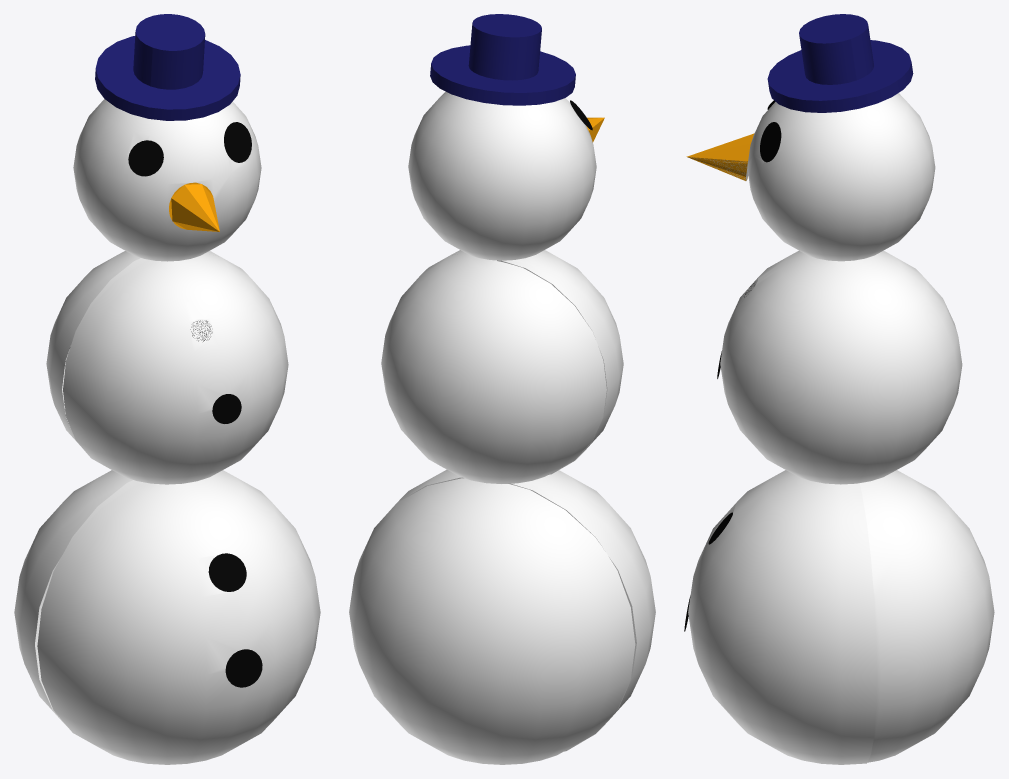
Rendered from snow_man.dae.
3 views of the same model, side by side, from view 1: azimuth 30°, elevation 25°; view 2: azimuth 150°, elevation 25°; view 3: azimuth 270°, elevation 25° (orthographic).
Parts seen in each view (by area): view 1: SketchUp (×11); view 2: SketchUp (×6); view 3: SketchUp (×7).
Boxes of the visible parts, x1,y1,x2,y2 form: SketchUp (×11): [14, 14, 320, 764]; SketchUp (×6): [349, 14, 655, 764]; SketchUp (×7): [686, 14, 994, 764].
Size of the model in its own units: 44.88 by 45.42 by 117.
